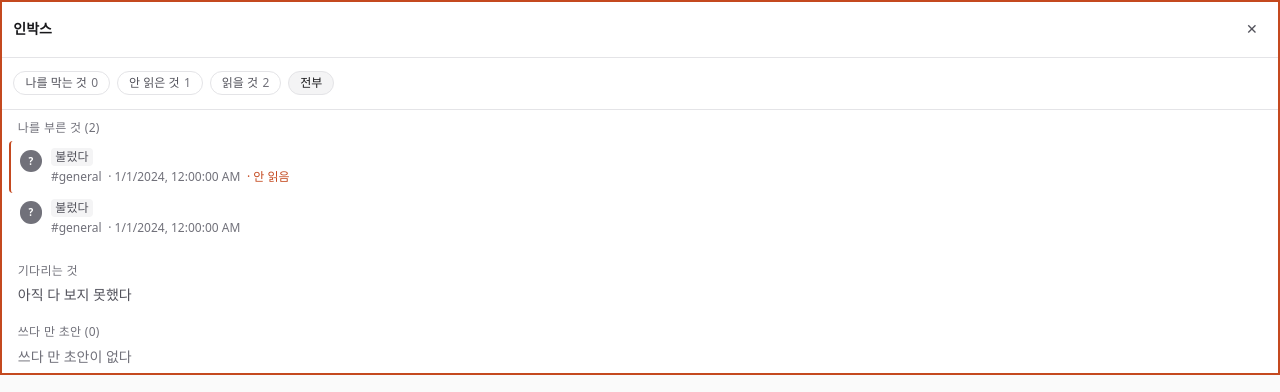
Inbox (#185) › '안 읽은 것' 칩으로 좁히면 이미 본 줄이 빠진다
Expected: the button with test id "inbox-entry-1" is shown, [9,141,1271,193]
Click the button with test id "inbox-filter-unread": (160, 83) [117,71,203,95]
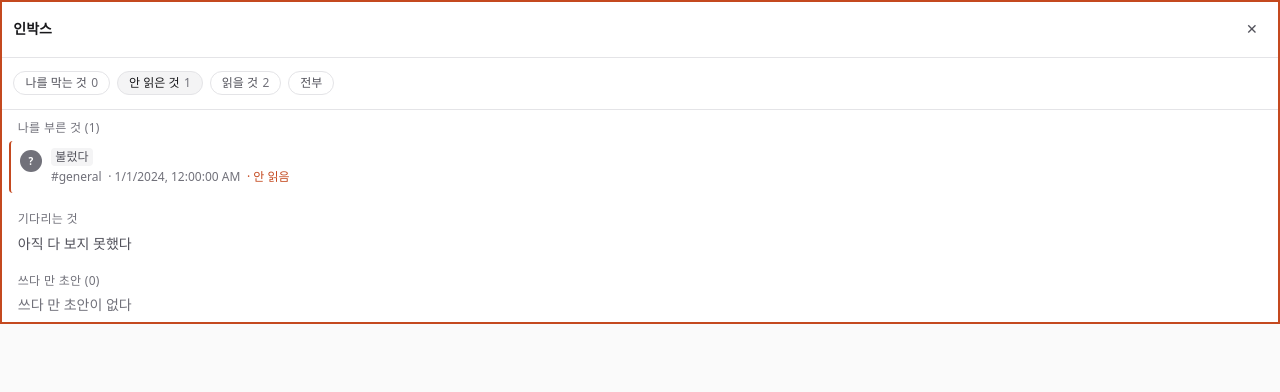
Expected: the button with test id "inbox-entry-1" is shown, [9,141,1271,193]
Expected: the button with test id "inbox-entry-2" is gone
Click the button with test id "inbox-filter-all": (311, 83) [288,71,334,95]
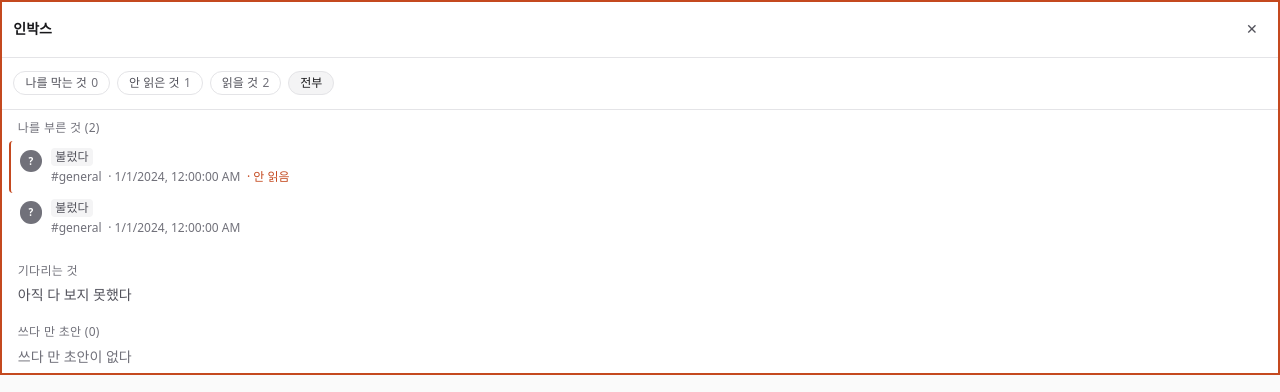
Expected: the button with test id "inbox-entry-2" is shown, [9,193,1271,244]
